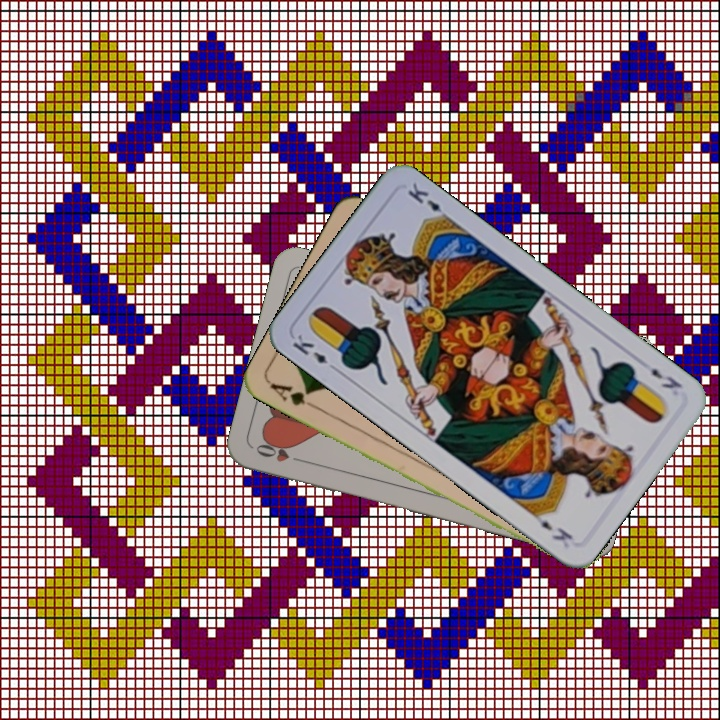EK: (288, 330, 341, 375), (646, 363, 685, 392)
GA: (266, 379, 322, 413)
HO: (251, 437, 309, 466)
